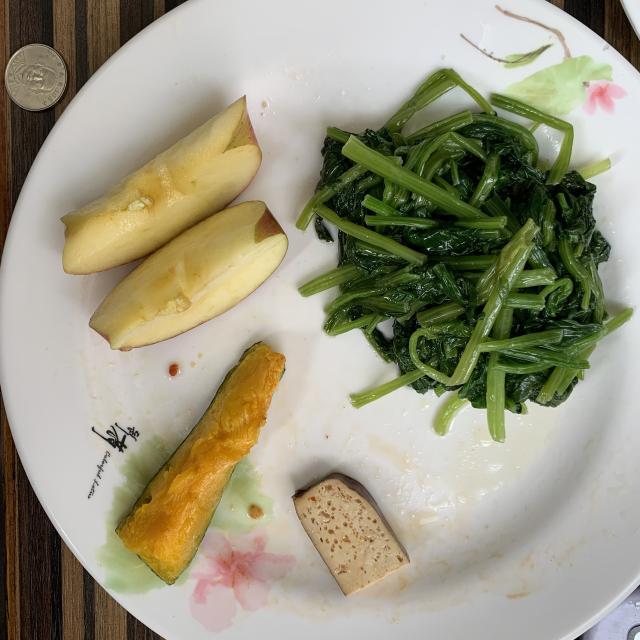apple -sliced-: (61, 98, 288, 350)
coin: (5, 44, 68, 111)
firm tofu: (292, 474, 410, 595)
mustard greens: (298, 70, 631, 441)
pumpkin: (116, 342, 285, 585)
